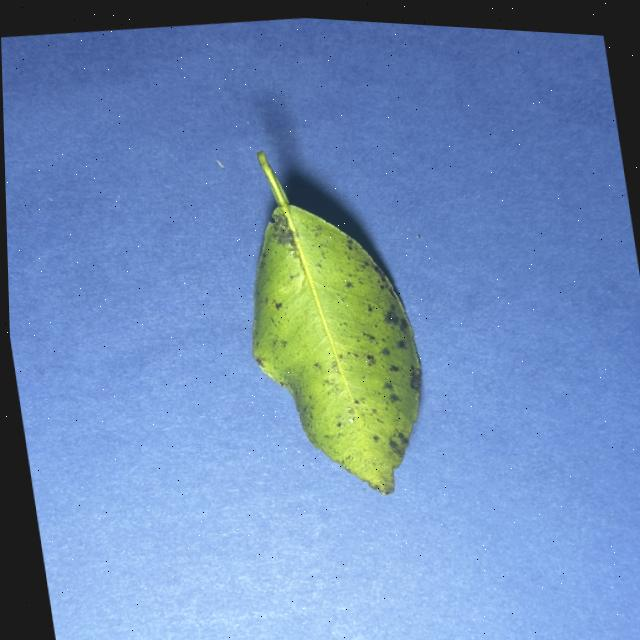sooty_mold: (253, 152, 421, 494)
